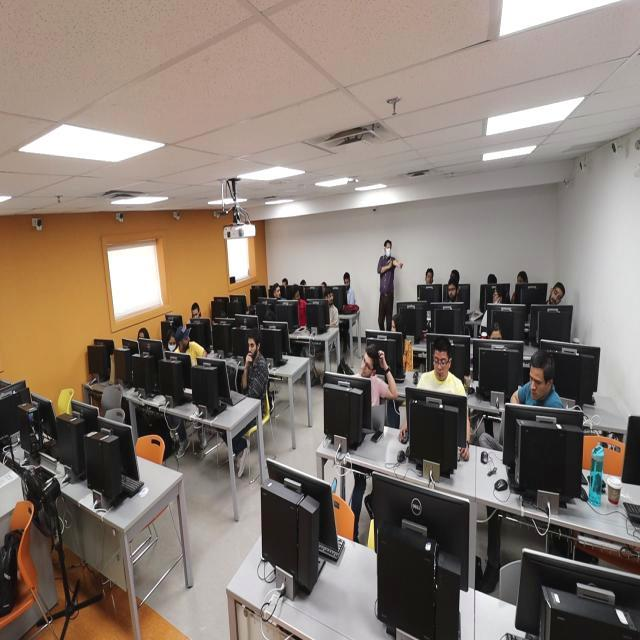Looking away: (529, 364, 545, 400), (433, 349, 449, 381), (549, 285, 563, 309), (248, 336, 258, 359), (178, 334, 190, 352), (448, 281, 458, 302), (490, 329, 502, 346), (492, 287, 502, 307), (168, 336, 176, 354), (426, 270, 434, 286), (327, 289, 334, 306), (192, 308, 200, 322), (294, 290, 301, 305), (274, 286, 281, 300), (344, 278, 351, 291), (391, 318, 396, 336)
Looking forward: (361, 352, 374, 378)
